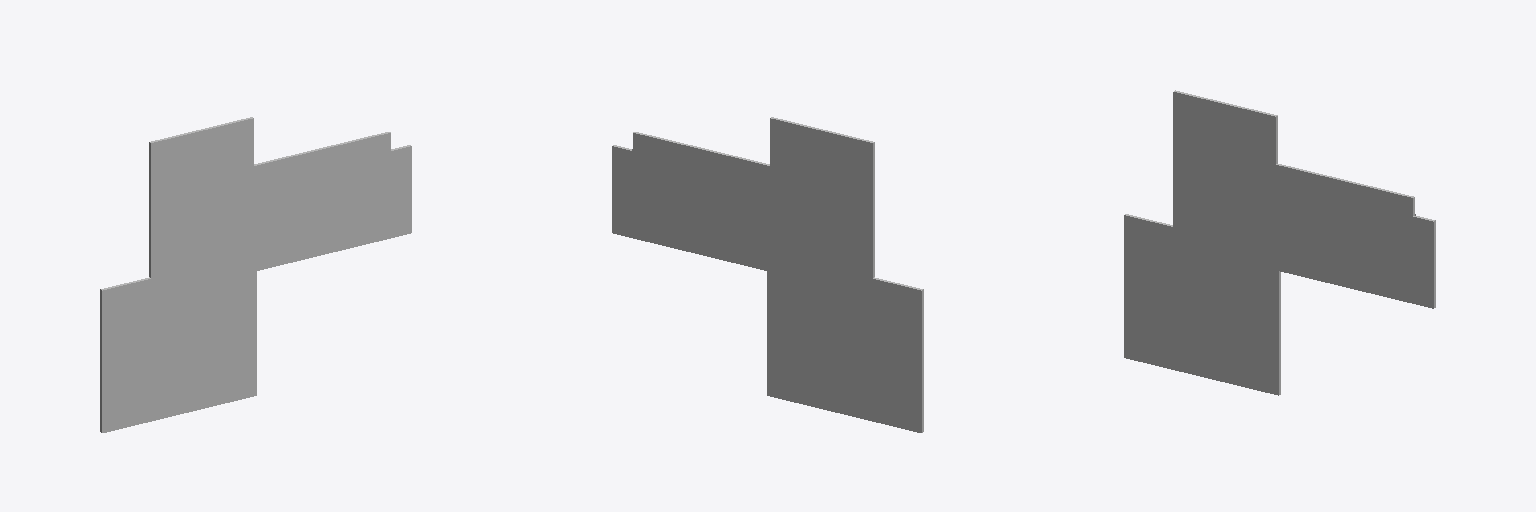
Rendered from UpdatedFloorMesh.obj.
3 renders of one model, left to right at view 1: azimuth 30°, elevation 25°; view 2: azimuth 150°, elevation 25°; view 3: azimuth 330°, elevation 25°, orthographic.
Visible parts, largest first — view 1: Shape008; view 2: Shape008; view 3: Shape008.
Part boxes in pixels (x1,y1,x2,y2): Shape008: (100, 117, 411, 432); Shape008: (612, 117, 923, 432); Shape008: (1124, 90, 1435, 395).
Bounding box in the file's own units: 30.6 × 26.32 × 0.3.